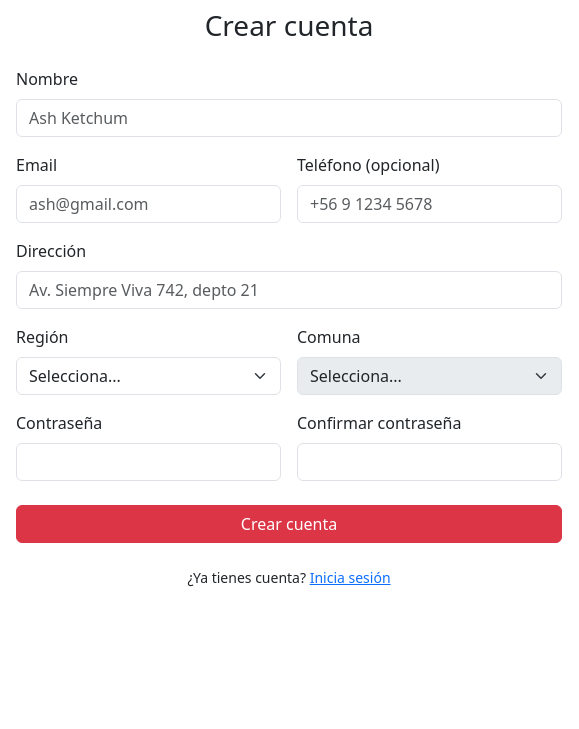
Test case: Vista Registro › detecta contraseñas distintas
Type "123456" into the password field labelled "Contraseña" at [148, 462], box left=16, top=443, right=281, bottom=481
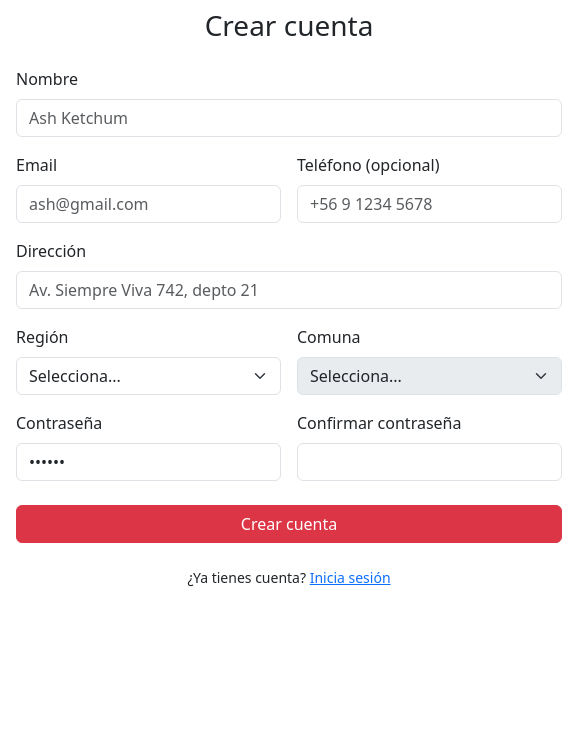
Type "654321" into the password field labelled "Confirmar contraseña" at [430, 462], box left=297, top=443, right=562, bottom=481
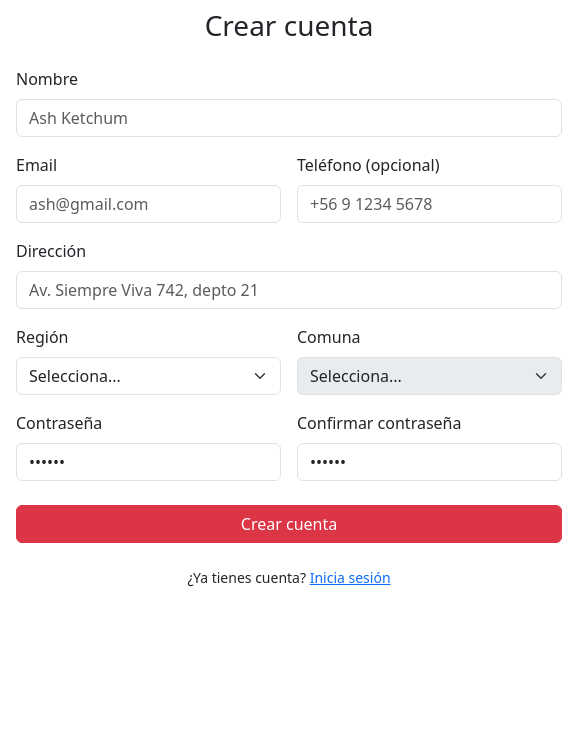
Click the button "Crear cuenta" at [289, 524], box left=16, top=505, right=562, bottom=543
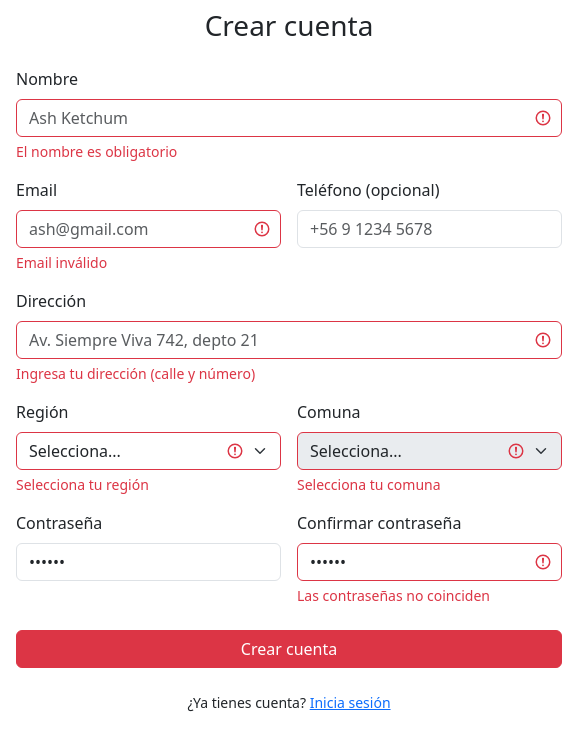
Check: the text "Las contraseñas no coinciden" is shown, box left=297, top=586, right=490, bottom=605
